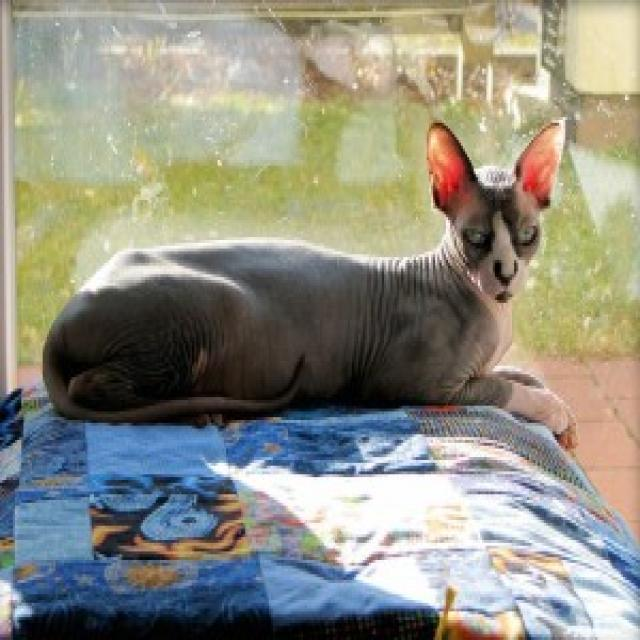Sphynx: (422, 108, 569, 306)
